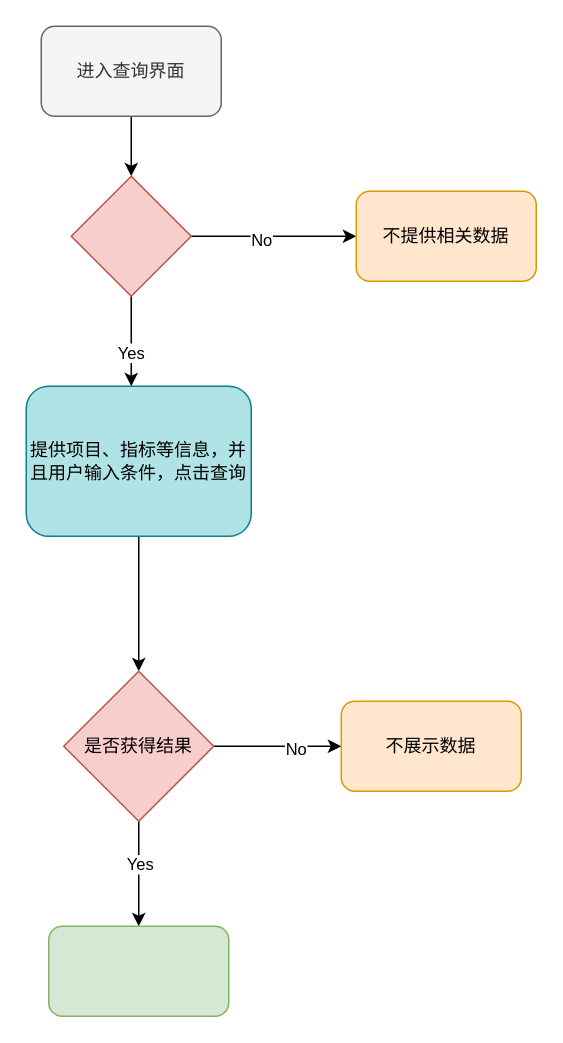
Image size: 563x1043. Some labels were removed from this diagram. Each missing label, with the centre of its shape:
展示数据，限制1000: the point at 138,970
是否有权限: the point at 130,235
